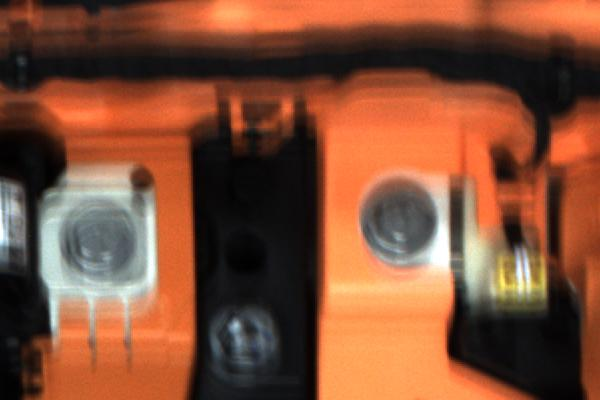nut_b: (52, 197, 143, 281), (351, 179, 444, 255)
